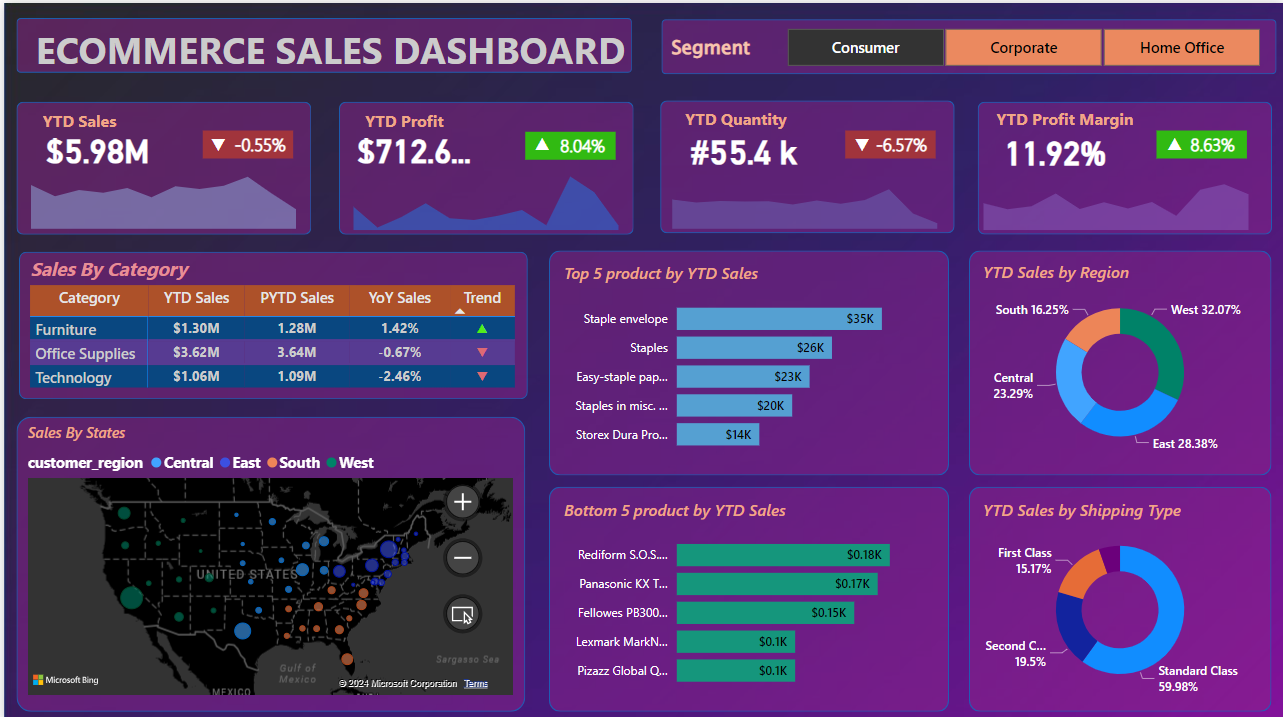

This screenshot's page, from the dashboard's own definition file:
{"tool":"powerbi","page":{"name":"Page 1","canvas":[1280,720],"ordinal":0},"visuals":[{"type":"shape","box":[12.3,15.1,615.6,54.8],"z":0},{"type":"textbox","box":[12.1,15.7,628.3,69.9],"z":1000},{"type":"shape","box":[12.3,98.7,294.8,133],"z":2000},{"type":"card","fields":{"Values":["ecommerce_data.YTD Sales"]},"box":[25.3,126.6,137.5,39.8],"z":3000},{"type":"areaChart","fields":{"Category":["Calendar.Month"],"Y":["Sum(ecommerce_data.sales_per_order)"]},"box":[12.1,155.6,294.3,76],"z":4000},{"type":"shape","box":[199,127.8,90.5,27.7],"z":5000},{"type":"card","fields":{"Values":["ecommerce_data.Sales Icon"]},"box":[190.6,127.8,49.4,32.6],"z":6000},{"type":"card","fields":{"Values":["ecommerce_data.YoY Sales"]},"box":[221.9,129,67.5,26.5],"z":7000},{"type":"textbox","box":[33.8,101.3,94.1,41],"z":8000},{"type":"shape","box":[334.9,99.1,294.8,133],"z":9000},{"type":"card","fields":{"Values":["ecommerce_data.YTD Profit"]},"box":[341.3,126.6,137.5,39.8],"z":10000},{"type":"areaChart","fields":{"Category":["Calendar.Month"],"Y":["Sum(ecommerce_data.profit_per_order)"]},"box":[334.7,155.9,294.3,76],"z":11000},{"type":"shape","box":[521.6,128.2,90.5,27.7],"z":12000},{"type":"card","fields":{"Values":["ecommerce_data.Profit Icon"]},"box":[513.8,126.6,49.4,32.6],"z":13000},{"type":"card","fields":{"Values":["ecommerce_data.YoY Profit"]},"box":[544.5,129.4,67.5,26.5],"z":14000},{"type":"textbox","box":[356.2,101.2,111.2,41.2],"z":15000},{"type":"shape","box":[656.1,97.7,294.3,132.7],"z":16000},{"type":"card","fields":{"Values":["ecommerce_data.YTD Concatenated Qty"]},"box":[671.8,127.8,137.5,39.8],"z":17000},{"type":"areaChart","fields":{"Category":["Calendar.Month"],"Y":["Sum(ecommerce_data.order_quantity)"]},"box":[654.4,155.3,294.3,76],"z":18000},{"type":"shape","box":[841.3,127.6,90.5,27.7],"z":19000},{"type":"card","fields":{"Values":["ecommerce_data.Qty Icon"]},"box":[833.4,127.8,49.4,32.6],"z":20000},{"type":"card","fields":{"Values":["ecommerce_data.YoY Qty"]},"box":[864.2,128.8,67.5,26.5],"z":21000},{"type":"textbox","box":[676.6,100.1,126.6,41],"z":22000},{"type":"shape","box":[973.1,99.2,294.3,132.7],"z":23000},{"type":"card","fields":{"Values":["ecommerce_data.YTD Profit Margin"]},"box":[982.8,128.2,137.5,39.8],"z":24000},{"type":"areaChart","fields":{"Category":["Calendar.Month"],"Y":["ecommerce_data.Profit Margin"]},"box":[965.4,155.7,294.3,76],"z":25000},{"type":"shape","box":[1152.3,127.9,90.5,27.7],"z":26000},{"type":"card","fields":{"Values":["ecommerce_data.Profit Margin Icon"]},"box":[1145.7,126.6,49.4,32.6],"z":27000},{"type":"card","fields":{"Values":["ecommerce_data.YoY Profit Margin"]},"box":[1175.2,129.1,67.5,26.5],"z":28000},{"type":"textbox","box":[987.7,100.1,164,41],"z":29000},{"type":"shape","box":[15,248.5,508.8,147.5],"z":30000},{"type":"pivotTable","title":"Sales By Category","fields":{"Rows":["ecommerce_data.category_name"],"Values":["ecommerce_data.YTD Sales","ecommerce_data.PYTD Sales","ecommerce_data.YoY Sales","ecommerce_data.Sales Icon"]},"box":[21.3,252.2,495,143.8],"z":31000},{"type":"shape","box":[12.5,413.8,508.8,295],"z":32000},{"type":"map","title":"Sales By States","fields":{"Y":["us_state_long_lat_codes.latitude"],"X":["us_state_long_lat_codes.longitude"],"Size":["ecommerce_data.YTD Sales"],"Series":["ecommerce_data.customer_region"]},"box":[18.8,418.8,495,277.5],"z":33000},{"type":"shape","box":[545,247.5,400,225],"z":34000},{"type":"shape","box":[545,483.8,400,225],"z":35000},{"type":"barChart","title":"Top 5 product by YTD  Sales","fields":{"Category":["ecommerce_data.product_name"],"Y":["ecommerce_data.YTD Sales"]},"box":[555,258.8,376.2,201.2],"z":36000},{"type":"barChart","title":"Bottom 5 product by YTD  Sales","fields":{"Category":["ecommerce_data.product_name"],"Y":["ecommerce_data.YTD Sales"]},"box":[555,495,376.2,201.2],"z":37000},{"type":"shape","box":[965,247.5,302.5,225],"z":38000},{"type":"shape","box":[965,483.8,302.5,225],"z":39000},{"type":"donutChart","title":"YTD Sales by Region","fields":{"Category":["ecommerce_data.customer_region"],"Y":["ecommerce_data.YTD Sales"]},"box":[973.8,257.5,285,202.5],"z":40000},{"type":"donutChart","title":"YTD Sales by Shipping Type","fields":{"Y":["ecommerce_data.YTD Sales"],"Category":["ecommerce_data.shipping_type"]},"box":[973.8,495,285,202.5],"z":41000},{"type":"shape","box":[657.5,16.2,615,55],"z":42000},{"type":"slicer","fields":{"Values":["ecommerce_data.customer_segment"]},"box":[757.5,18.8,522.5,51.2],"z":43000},{"type":"textbox","box":[662.5,25,100,41.2],"z":44000}]}

Visuals, with their boxes in screenshot pixels (x1, y1, x2, y2), scaled from the page's 1280x720 canvas onto the 1283x717 screenshot:
shape: [12, 15, 629, 70]
textbox: [12, 16, 642, 85]
shape: [12, 98, 308, 231]
card - ecommerce_data.YTD Sales: [25, 126, 163, 166]
areaChart - Calendar.Month x Sum(ecommerce_data.sales_per_order): [12, 155, 307, 231]
shape: [199, 127, 290, 155]
card - ecommerce_data.Sales Icon: [191, 127, 241, 160]
card - ecommerce_data.YoY Sales: [222, 128, 290, 155]
textbox: [34, 101, 128, 142]
shape: [336, 99, 631, 231]
card - ecommerce_data.YTD Profit: [342, 126, 480, 166]
areaChart - Calendar.Month x Sum(ecommerce_data.profit_per_order): [335, 155, 630, 231]
shape: [523, 128, 614, 155]
card - ecommerce_data.Profit Icon: [515, 126, 565, 159]
card - ecommerce_data.YoY Profit: [546, 129, 613, 155]
textbox: [357, 101, 468, 142]
shape: [658, 97, 953, 229]
card - ecommerce_data.YTD Concatenated Qty: [673, 127, 811, 167]
areaChart - Calendar.Month x Sum(ecommerce_data.order_quantity): [656, 155, 951, 230]
shape: [843, 127, 934, 155]
card - ecommerce_data.Qty Icon: [835, 127, 885, 160]
card - ecommerce_data.YoY Qty: [866, 128, 934, 155]
textbox: [678, 100, 805, 141]
shape: [975, 99, 1270, 231]
card - ecommerce_data.YTD Profit Margin: [985, 128, 1123, 167]
areaChart - Calendar.Month x ecommerce_data.Profit Margin: [968, 155, 1263, 231]
shape: [1155, 127, 1246, 155]
card - ecommerce_data.Profit Margin Icon: [1148, 126, 1198, 159]
card - ecommerce_data.YoY Profit Margin: [1178, 129, 1246, 155]
textbox: [990, 100, 1154, 141]
shape: [15, 247, 525, 394]
"Sales By Category" pivotTable: [21, 251, 518, 394]
shape: [13, 412, 523, 706]
"Sales By States" map: [19, 417, 515, 693]
shape: [546, 246, 947, 471]
shape: [546, 482, 947, 706]
"Top 5 product by YTD  Sales" barChart: [556, 258, 933, 458]
"Bottom 5 product by YTD  Sales" barChart: [556, 493, 933, 693]
shape: [967, 246, 1270, 471]
shape: [967, 482, 1270, 706]
"YTD Sales by Region" donutChart: [976, 256, 1262, 458]
"YTD Sales by Shipping Type" donutChart: [976, 493, 1262, 695]
shape: [659, 16, 1275, 71]
slicer - ecommerce_data.customer_segment: [759, 19, 1282, 70]
textbox: [664, 25, 764, 66]
